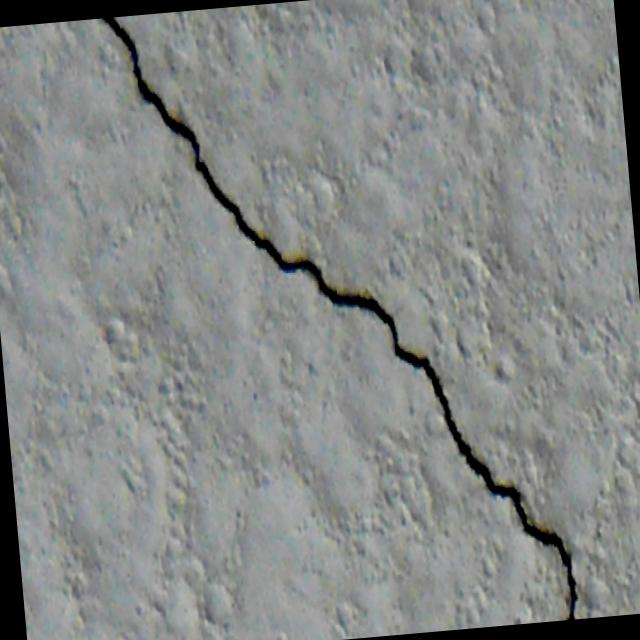crack: (100, 0, 583, 640)
